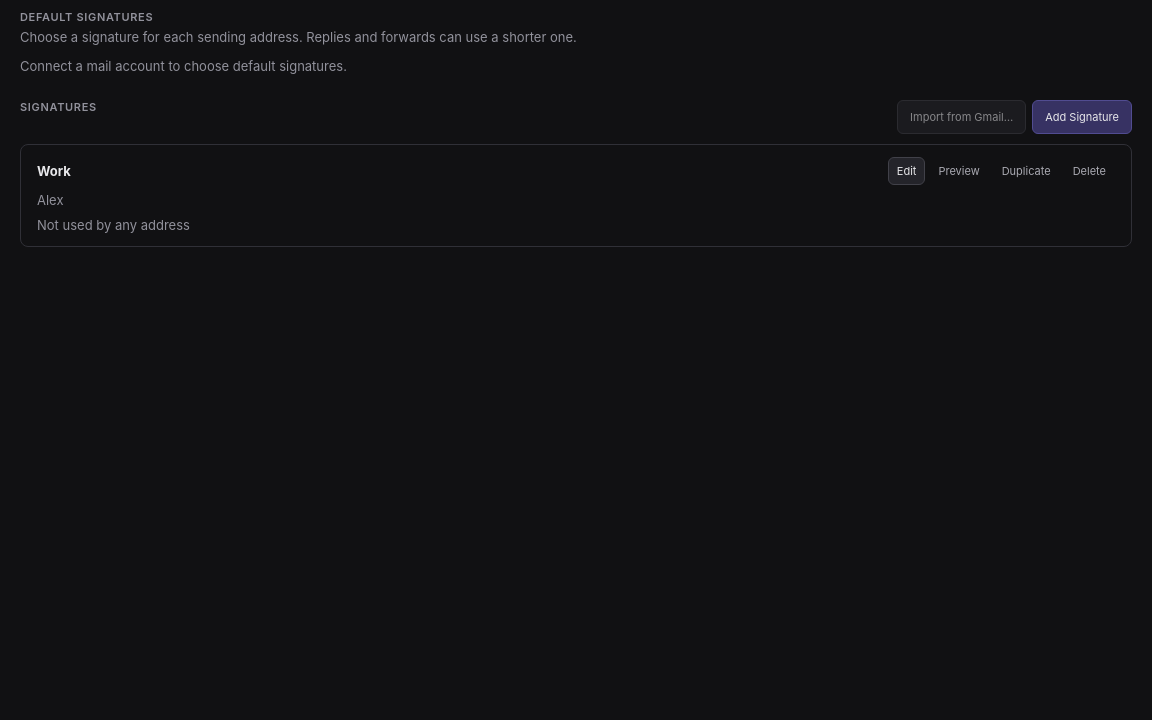
Test case: signature settings › requires an explicit deletion and preserves the library on failure
Click the button "Delete".
click(1089, 171)  # box [1064,157,1115,185]
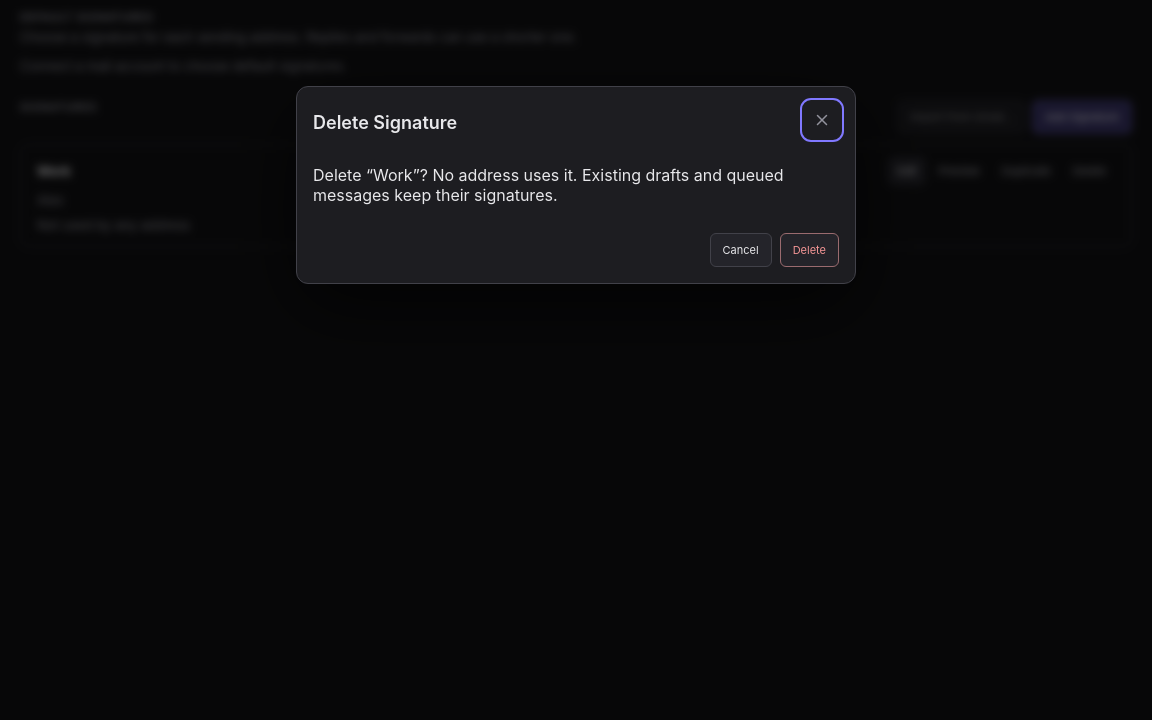
Click the button "Delete".
click(809, 250)  # box [780,233,839,267]
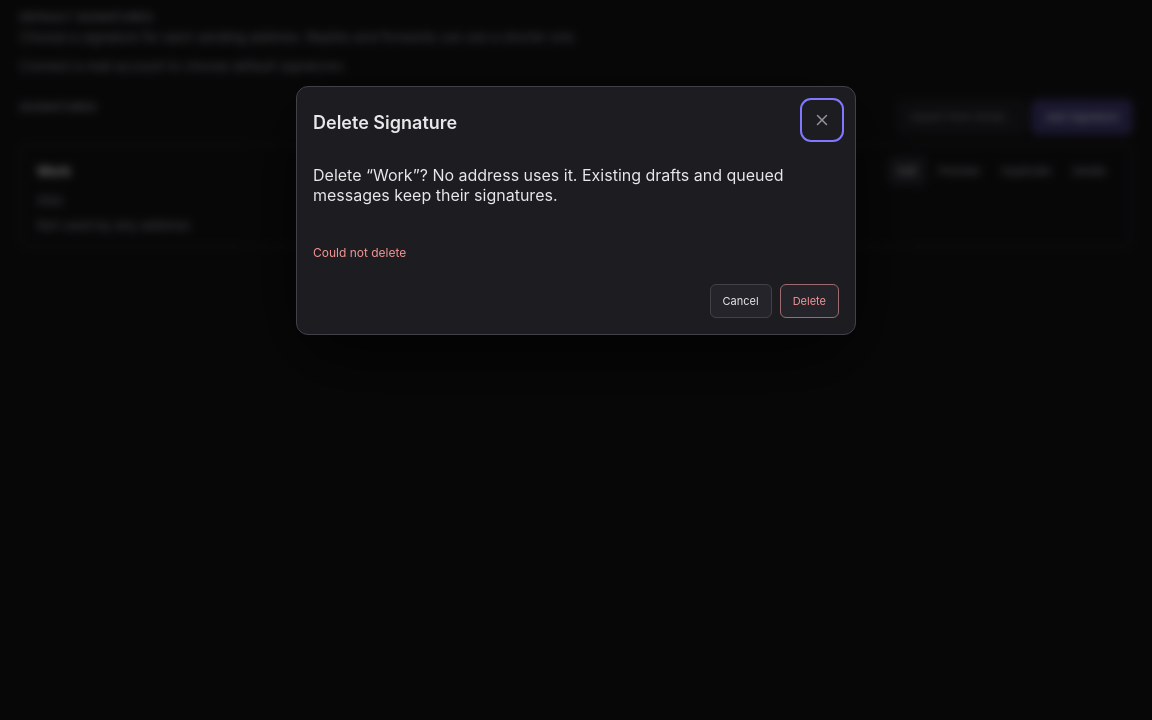
expect the message reads "Could not delete": met, box [313,245,406,260]
